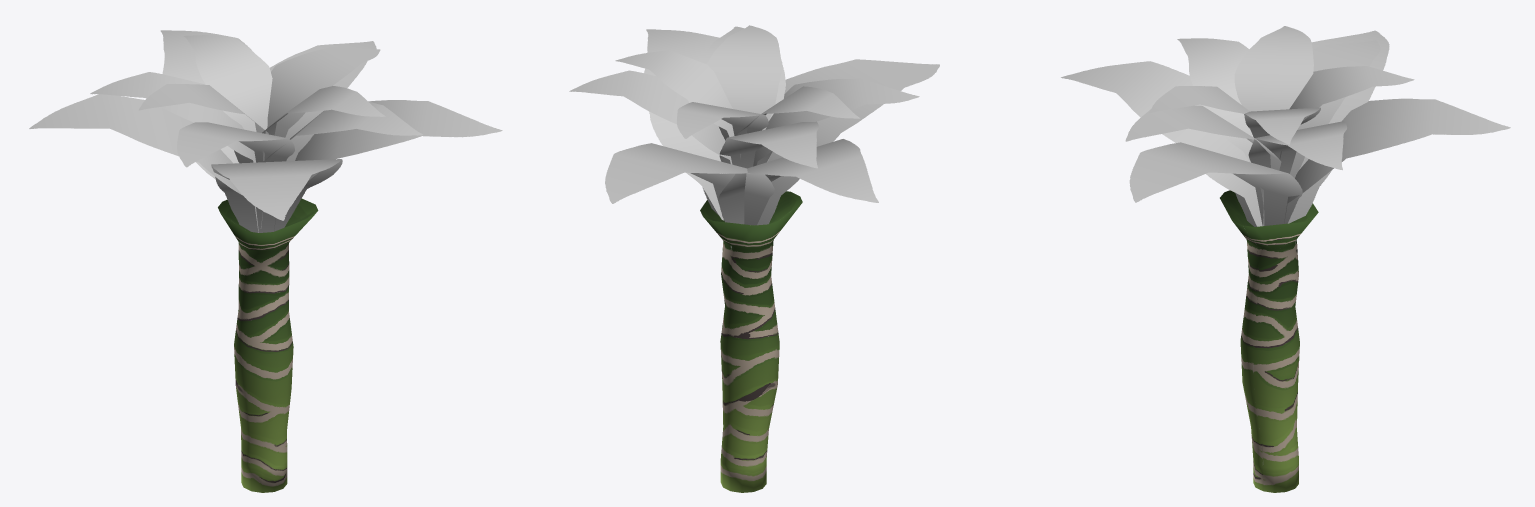
File: Model_Bush01_Median.fbx
3 renders of one model, left to right at view 1: azimuth 30°, elevation 25°; view 2: azimuth 150°, elevation 25°; view 3: azimuth 270°, elevation 25°, orthographic.
Parts seen in each view (by area): view 1: BushMedianLeaf, BushMedianTrunk; view 2: BushMedianLeaf, BushMedianTrunk; view 3: BushMedianLeaf, BushMedianTrunk.
Part boxes in pixels (box(x1,y1,x2,y2)): BushMedianLeaf: box(29, 30, 502, 232); BushMedianTrunk: box(218, 198, 318, 492); BushMedianLeaf: box(569, 25, 939, 249); BushMedianTrunk: box(700, 191, 802, 492); BushMedianLeaf: box(1061, 26, 1510, 243); BushMedianTrunk: box(1220, 190, 1318, 492).
Size of the model in its own units: 1.01 by 0.8988 by 1.01.
